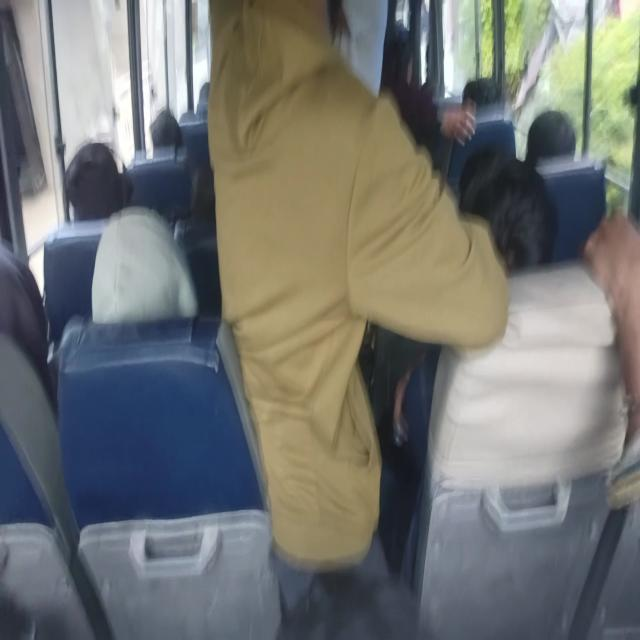person: (205, 1, 510, 631), (582, 206, 639, 443), (91, 204, 198, 325), (458, 146, 558, 274), (64, 140, 132, 222)
